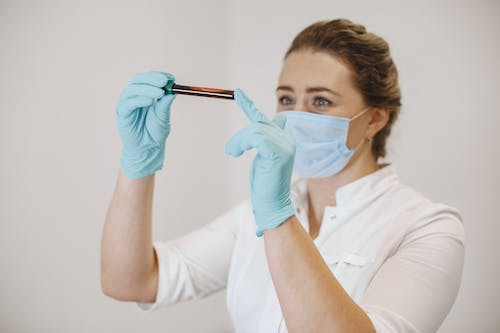blood: (172, 84, 236, 100)
